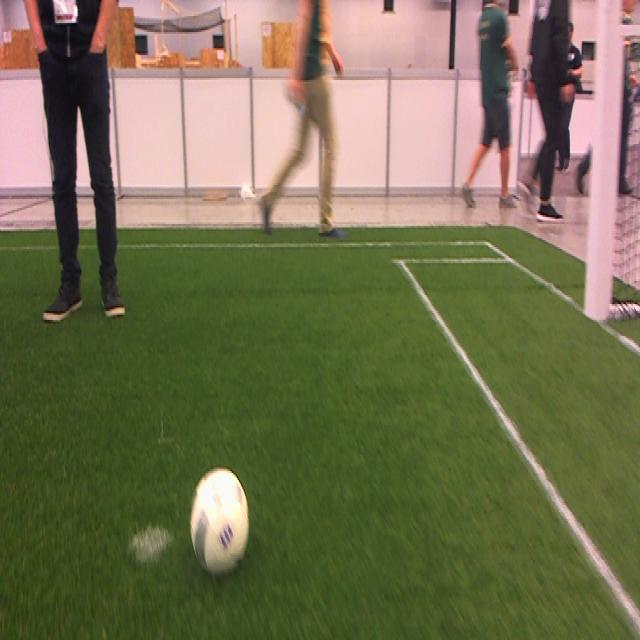ball: (187, 470, 251, 572)
goalpost: (584, 0, 625, 324)
